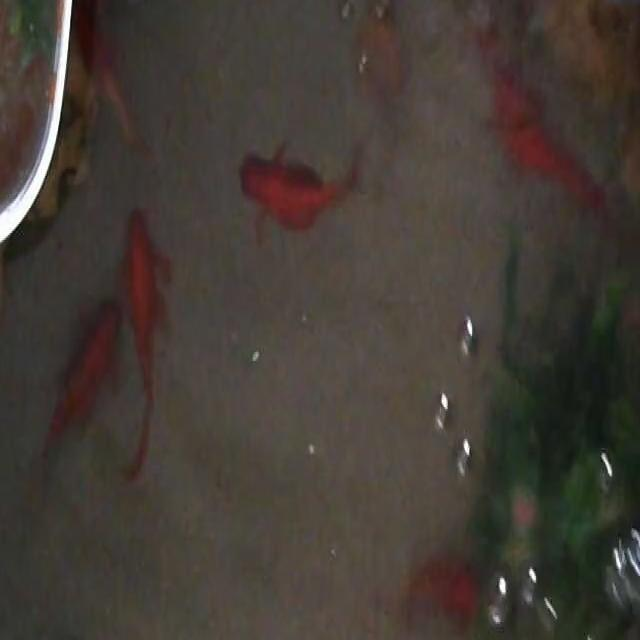fish: (483, 52, 616, 221), (35, 294, 124, 486), (120, 201, 170, 482), (236, 140, 367, 243), (70, 0, 151, 155), (398, 554, 482, 635), (351, 0, 408, 105), (68, 0, 103, 91)
